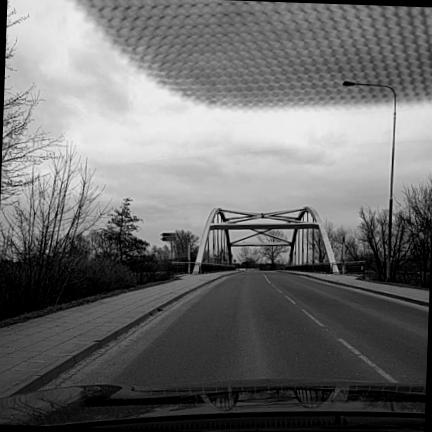Road: (61, 272, 428, 386)
